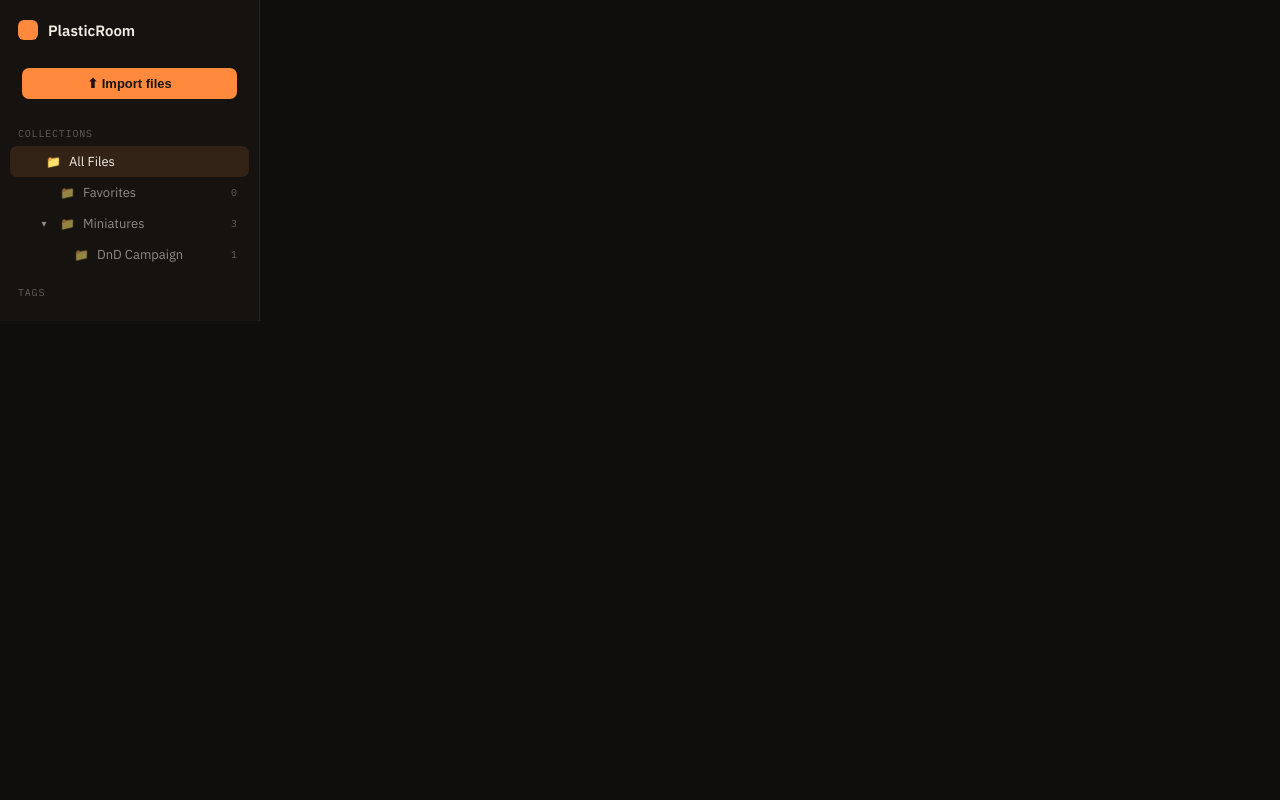
Test: Sidebar › closes the context menu on an outside click
Right-click the text "Miniatures" at (114, 224), box [83,215,144,232]
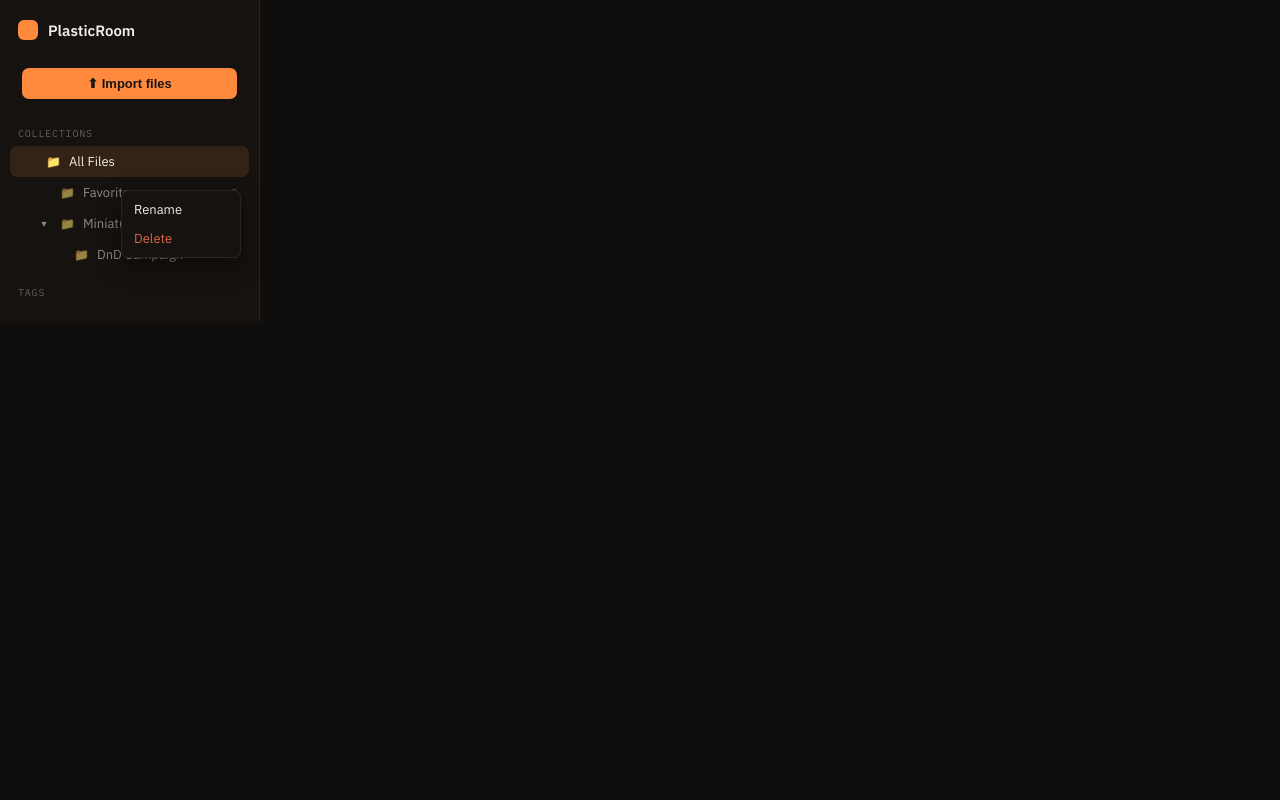
Expected: the menu item "Rename" is shown, [126,194,236,224]
Click the element that starts with "PlasticRoom" at (640, 400), box [0,0,1279,799]
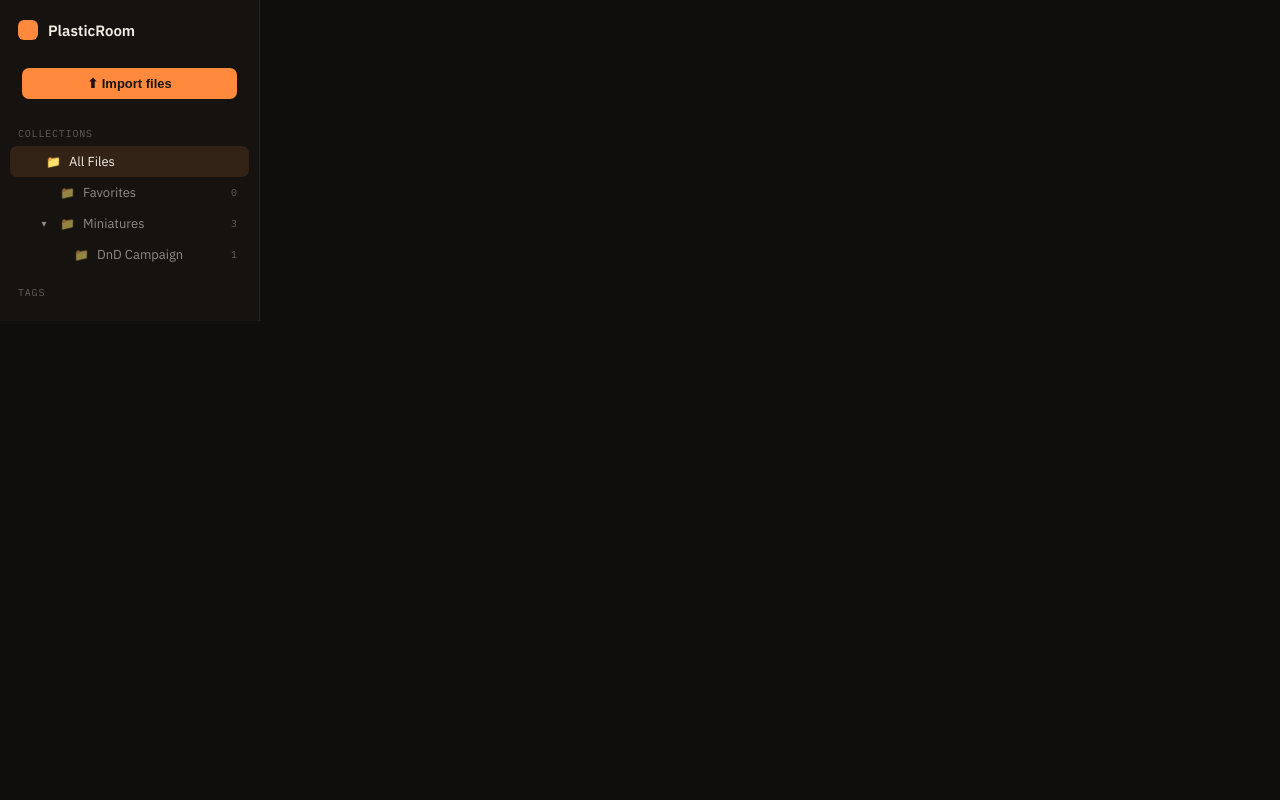
Expected: the menu item "Rename" is gone
